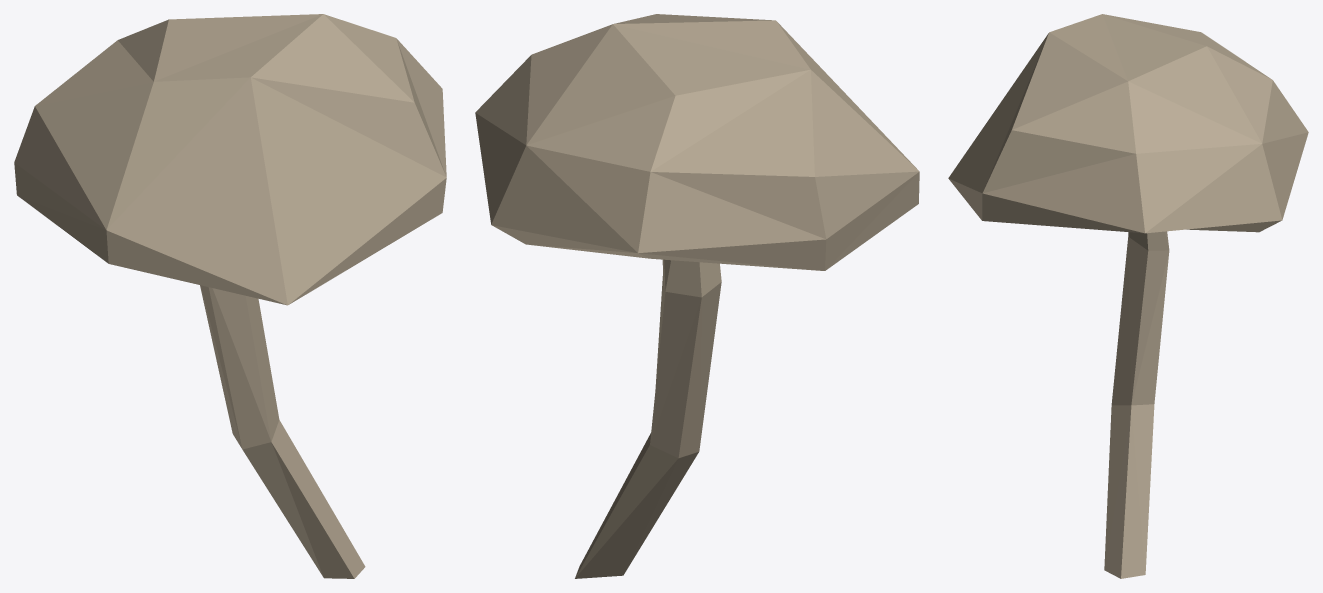
Rendered from SM_Mushroom_Brown_02.fbx.
3 views of the same model, side by side, from view 1: azimuth 30°, elevation 25°; view 2: azimuth 150°, elevation 25°; view 3: azimuth 270°, elevation 25° (orthographic). The views are drawn at different scales.
Visible parts, largest first — view 1: SM_Mushroom_Brown_02; view 2: SM_Mushroom_Brown_02; view 3: SM_Mushroom_Brown_02.
Boxes of the visible parts, x1,y1,x2,y2 form: SM_Mushroom_Brown_02: [14, 14, 446, 578]; SM_Mushroom_Brown_02: [475, 14, 919, 578]; SM_Mushroom_Brown_02: [948, 14, 1308, 578].
Bounding box in the file's own units: 26.04 × 35.46 × 24.06.
